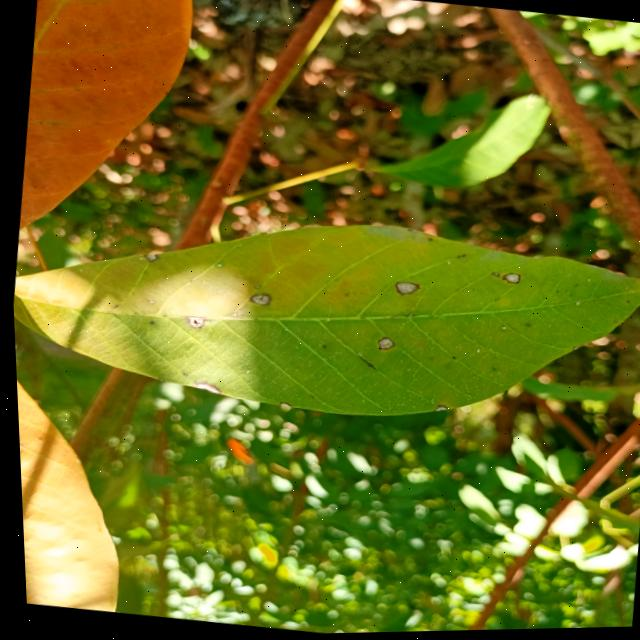Colletotrichum: (391, 282, 419, 299), (246, 294, 268, 307), (374, 338, 392, 353), (498, 274, 518, 287), (488, 275, 497, 280), (250, 285, 258, 290), (146, 300, 152, 305), (319, 346, 323, 350), (179, 374, 183, 377)
Corynespora: (353, 357, 373, 371)
Leaf-Blight: (635, 274, 640, 298)
